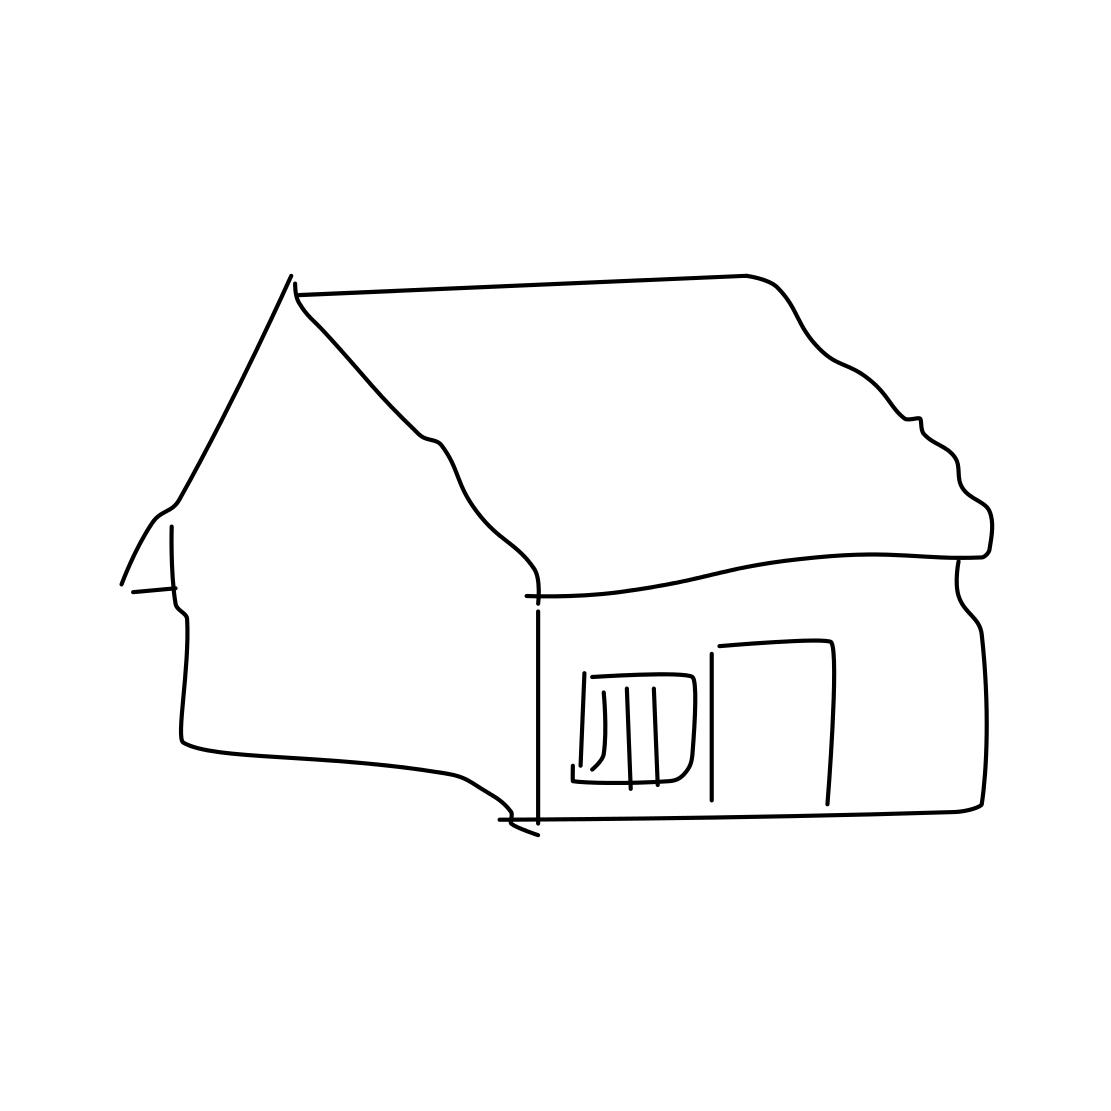House: (51, 234, 1028, 849)
